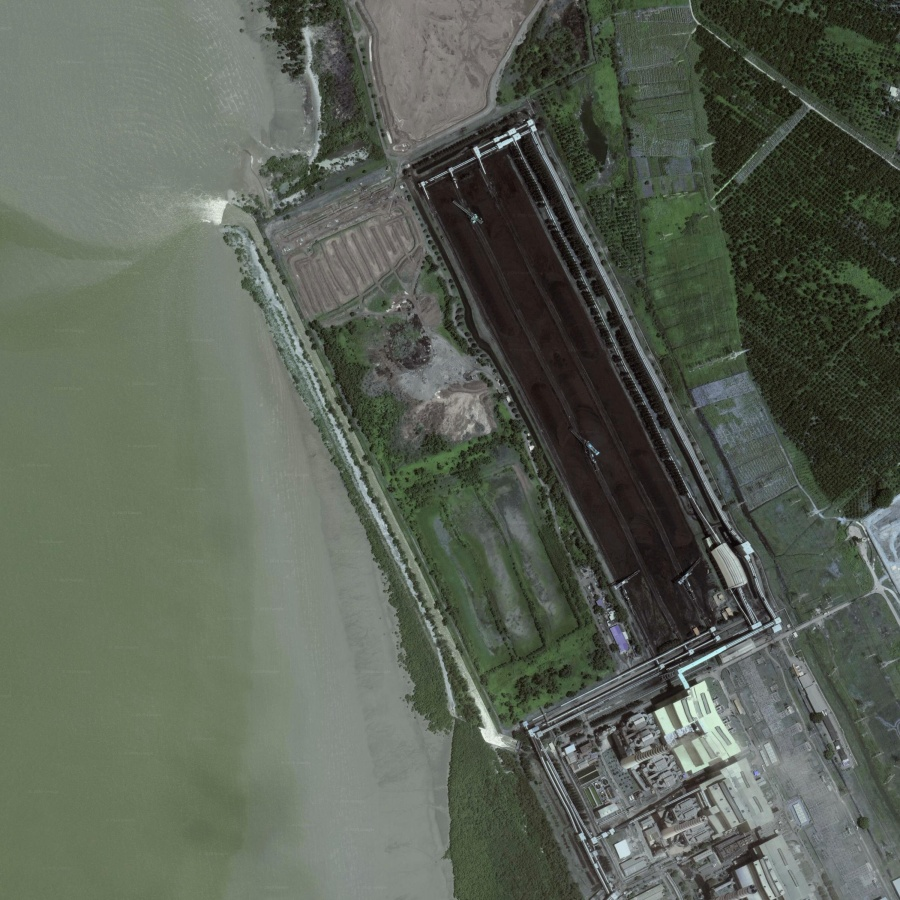PowerPlant: (427, 121, 750, 658)
